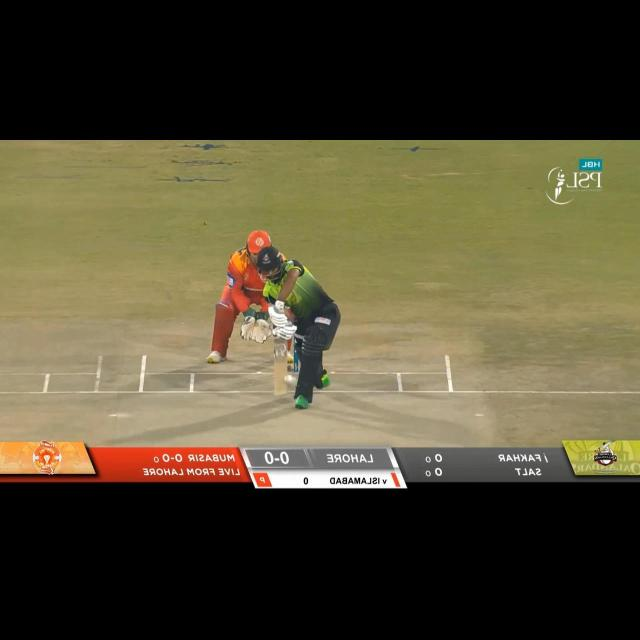bat: (271, 336, 286, 398)
toe: (270, 384, 290, 402)
